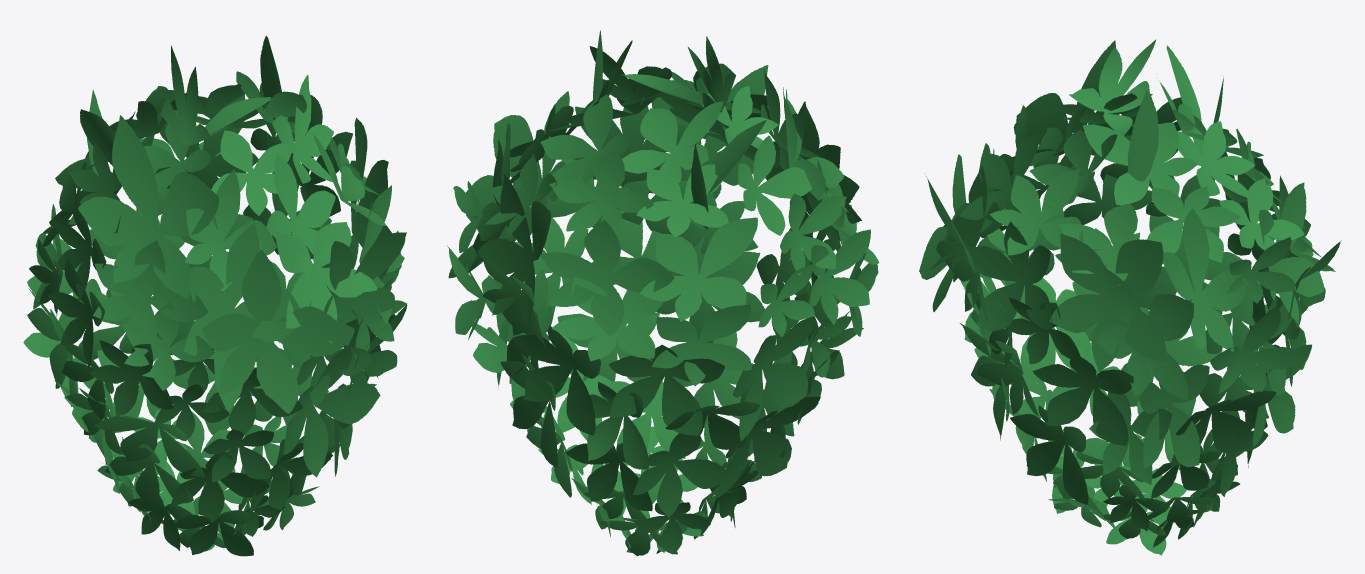
File: Map01_Flower04.FBX
3 views of the same model, side by side, from view 1: azimuth 30°, elevation 25°; view 2: azimuth 150°, elevation 25°; view 3: azimuth 270°, elevation 25° (orthographic). The views are drawn at different scales.
Parts seen in each view (by area): view 1: Map01_Flower04; view 2: Map01_Flower04; view 3: Map01_Flower04.
Part boxes in pixels (<box>): Map01_Flower04: <box>23,36,407,556</box>; Map01_Flower04: <box>447,30,879,556</box>; Map01_Flower04: <box>919,39,1341,555</box>.
Bounding box in the file's own units: 142 × 204 × 156.
1 material, 1 textured.
